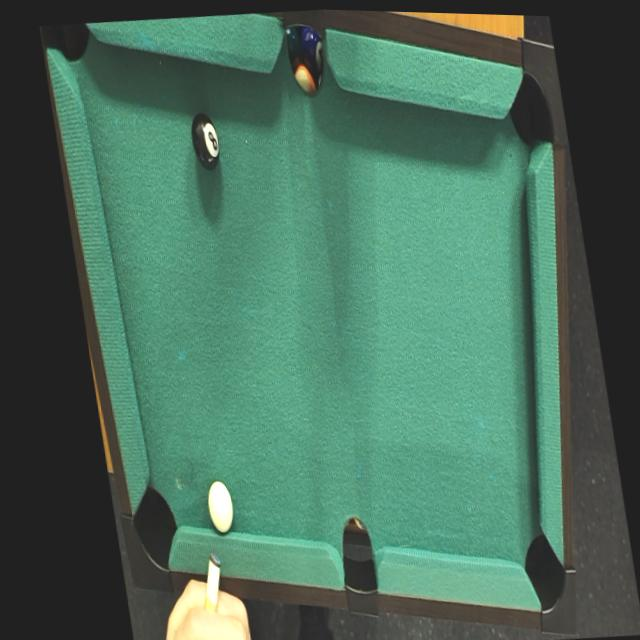cue ball: (200, 470, 240, 541)
other: (186, 109, 223, 168)
